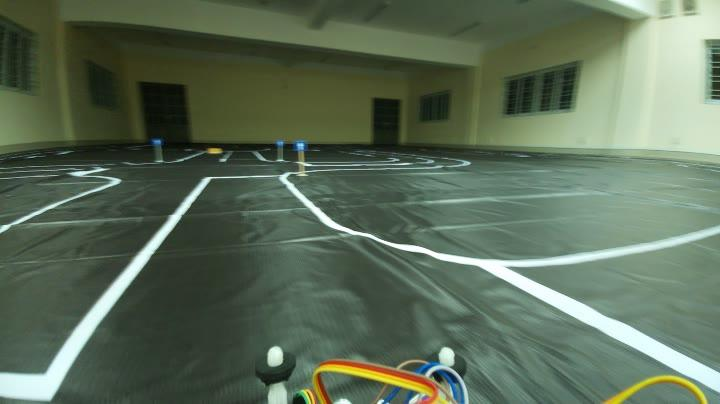onewayroad: (292, 138, 308, 153), (153, 136, 161, 146), (275, 137, 282, 147)
roadblock: (204, 148, 223, 154)
